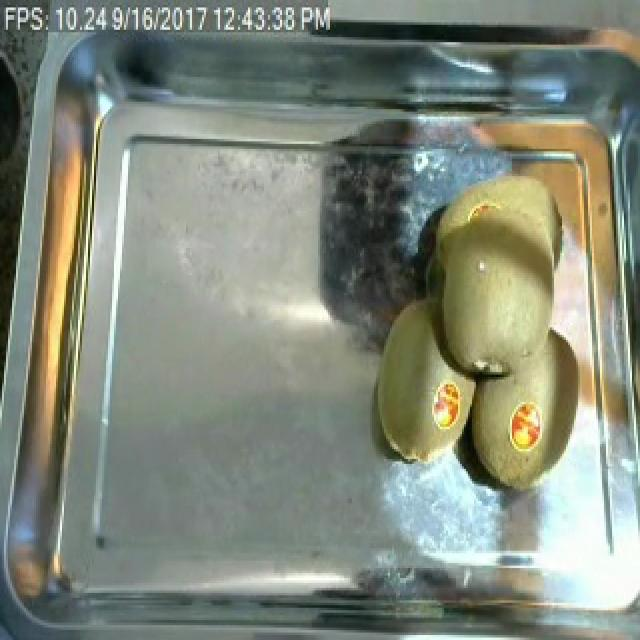Fruit: (408, 159, 580, 392), (366, 293, 480, 474)
